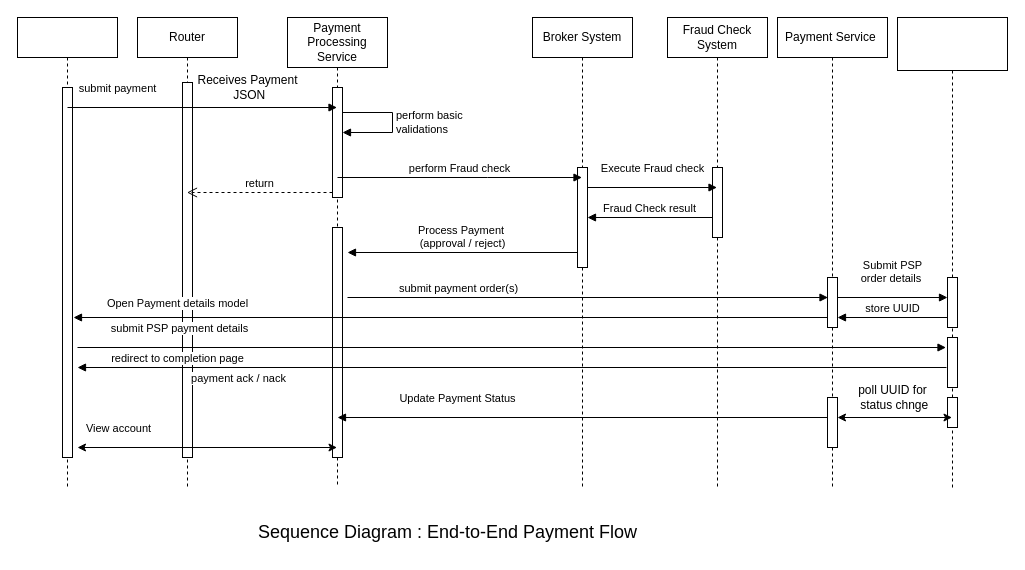
Some shapes in this 1025 by 570 pixel diagram are drawn without their labels. The box of each missing label's shape, as (x1, y1, x2, y2) in pixels:
PSPs (Payment Service Providers): (896, 16, 1008, 488)
User: (16, 16, 118, 488)
